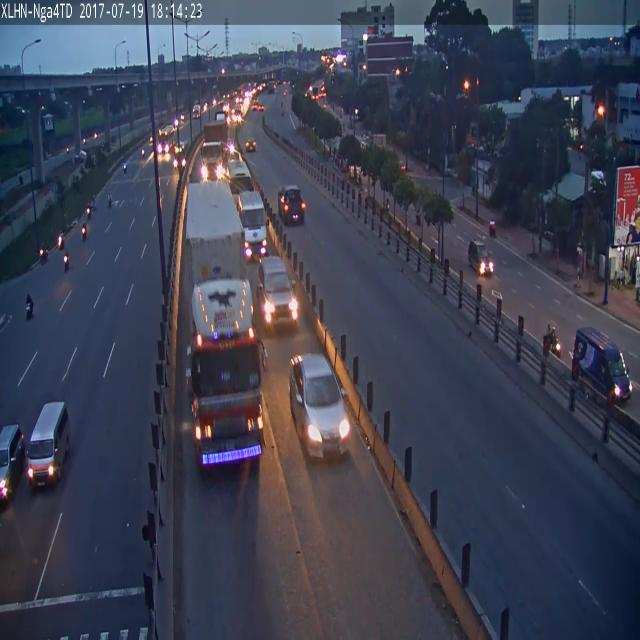car: (542, 324, 558, 358), (26, 294, 34, 319), (64, 252, 69, 270), (39, 249, 47, 260)
traffic-light: (290, 355, 351, 458), (572, 327, 632, 404), (256, 256, 298, 327), (0, 424, 26, 504), (238, 190, 266, 257), (198, 142, 227, 180), (278, 187, 306, 226), (467, 238, 494, 276), (228, 154, 250, 179)
truck: (185, 182, 272, 476), (28, 402, 68, 488)
